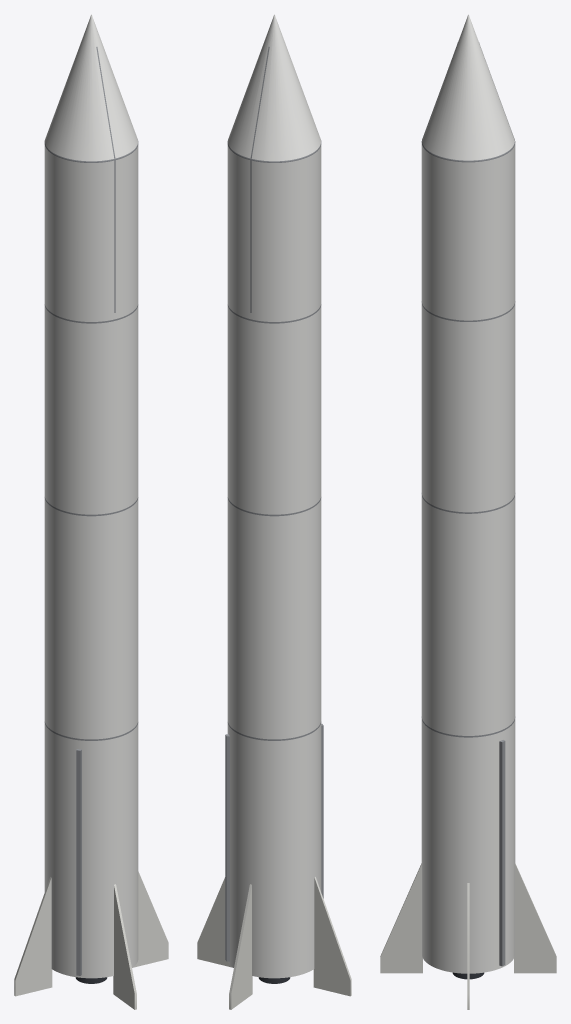
File: kinetica1.glb
3 renders of one model, left to right at view 1: azimuth 30°, elevation 25°; view 2: azimuth 150°, elevation 25°; view 3: azimuth 270°, elevation 25°, orthographic.
Parts seen in each view (by area): view 1: kinetica1; view 2: kinetica1; view 3: kinetica1.
Part boxes in pixels (x1,y1,x2,y2): kinetica1: [14, 14, 168, 1009]; kinetica1: [197, 14, 351, 1009]; kinetica1: [380, 14, 556, 1009].
Bounding box in the file's own units: 5 × 30 × 5.
Materials: 1 (1 with a texture image).
